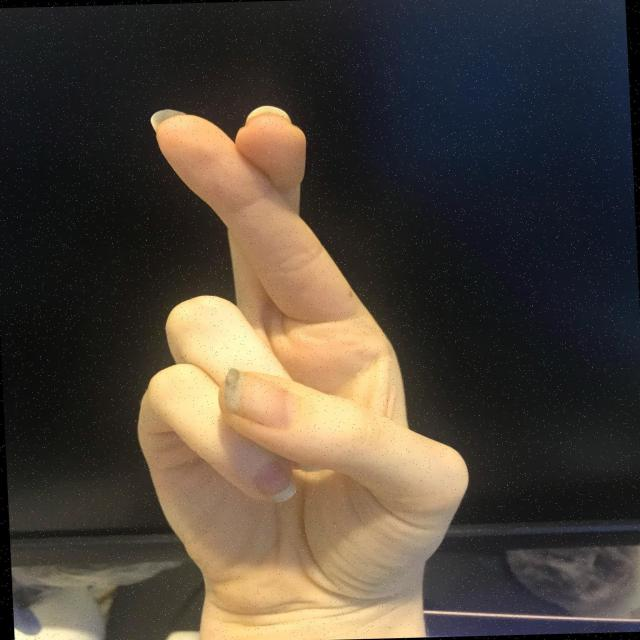R: (114, 94, 482, 626)
